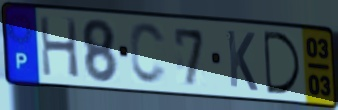7: (171, 27, 207, 87)
8: (81, 17, 121, 85)
C: (128, 20, 169, 87)
D: (261, 29, 304, 97)
H: (37, 14, 82, 80)
K: (224, 28, 260, 94)
